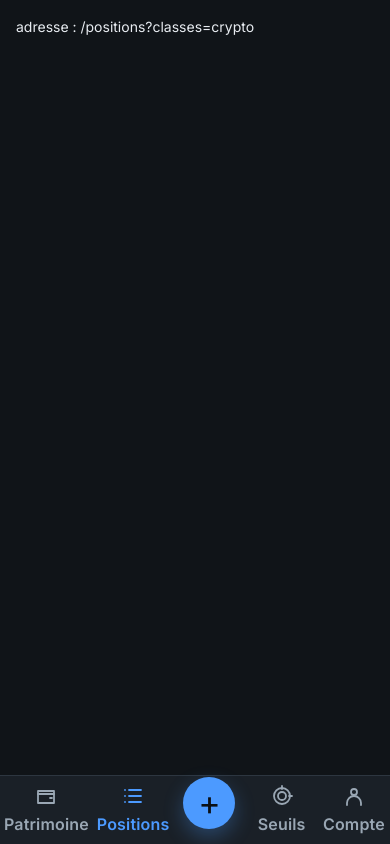
bouton de saisie de la barre mobile › ouvre la saisie sur place depuis la liste des positions
The image size is (390, 844).
Step 1. Click the button named "Nouveau mouvement" → click(210, 803), box top-left (184, 777), bottom-right (236, 829)
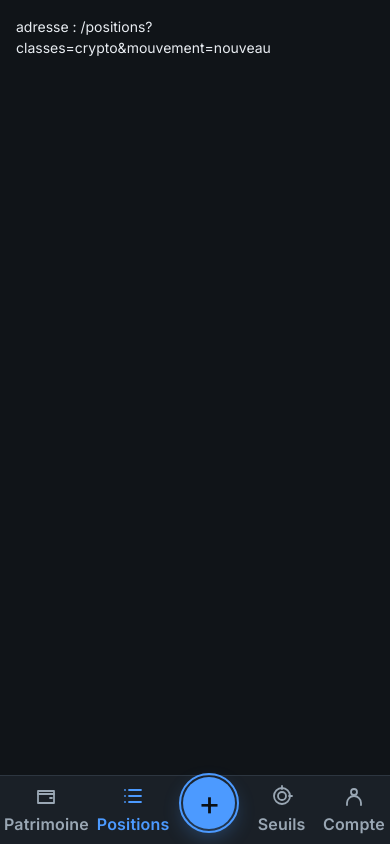
Expected: the text "adresse : /positions?classes=crypto&mouvement=nouveau" is shown, top-left (16, 18), bottom-right (271, 56)
